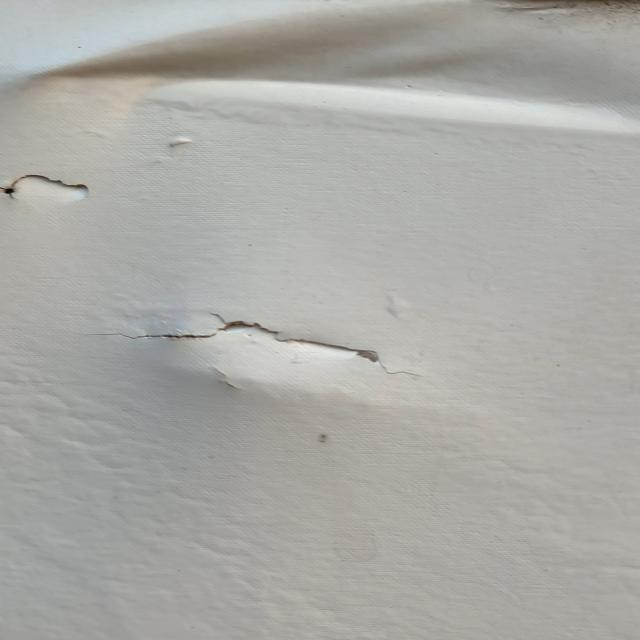Scratches: (84, 285, 481, 406), (1, 166, 123, 217)
